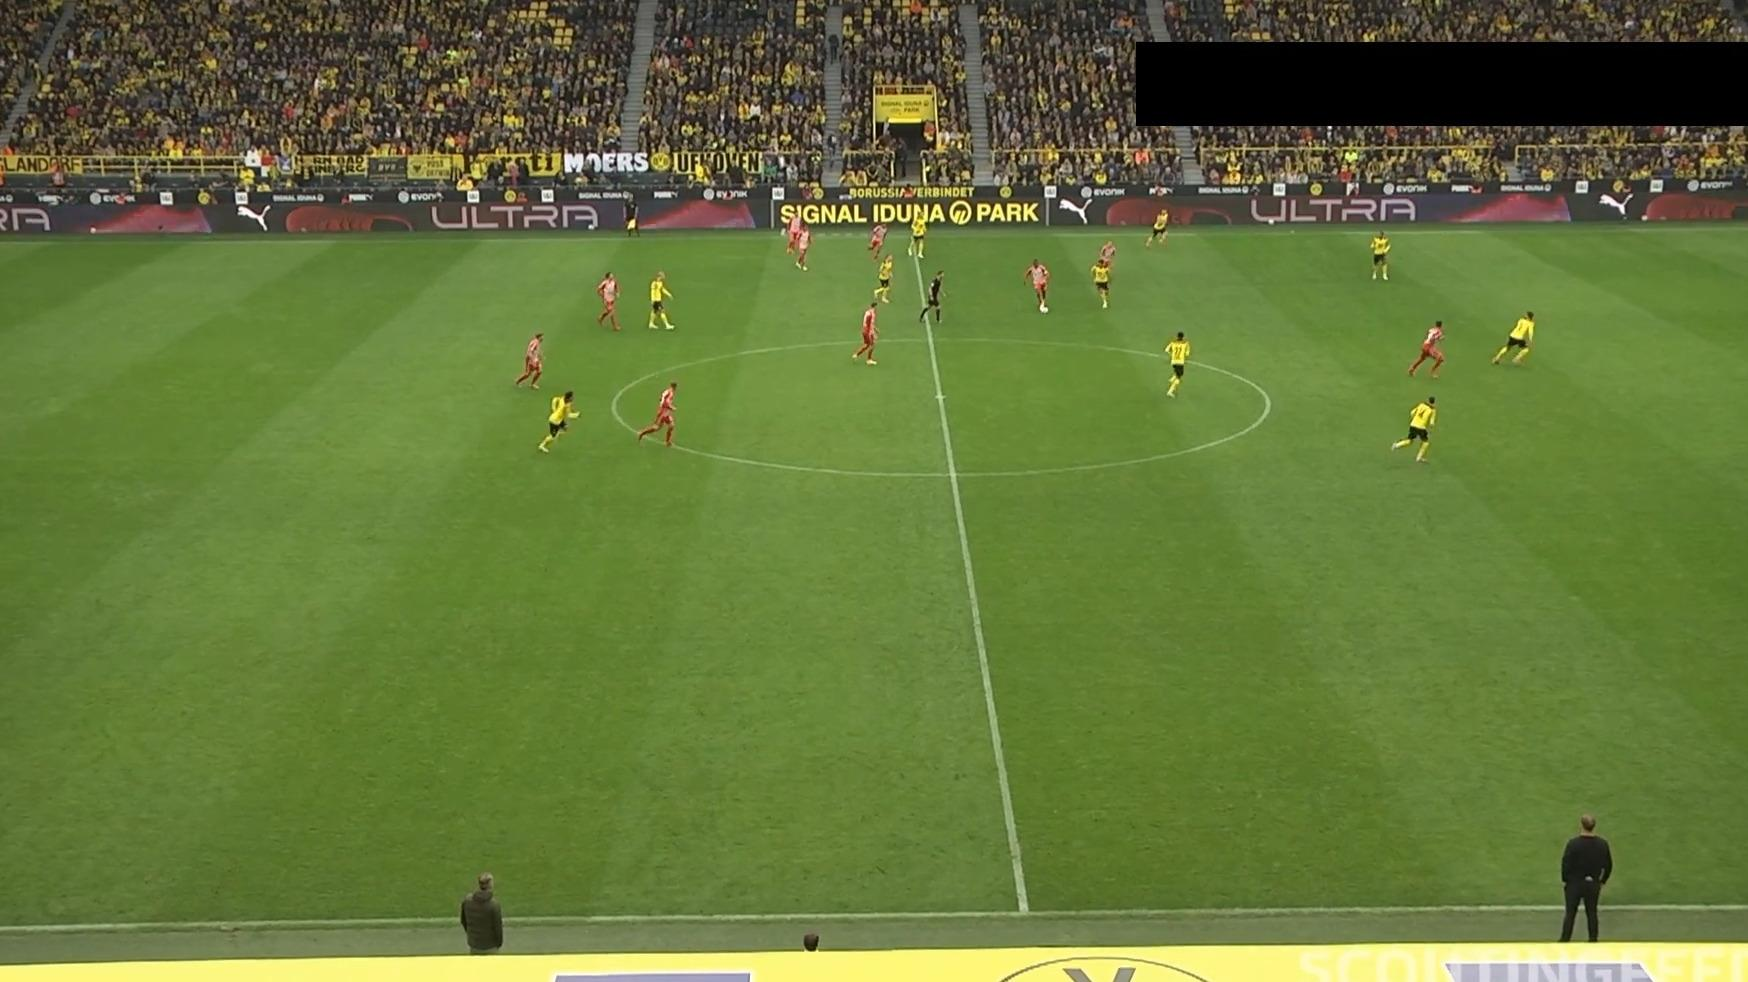ball: (1040, 305, 1050, 315)
